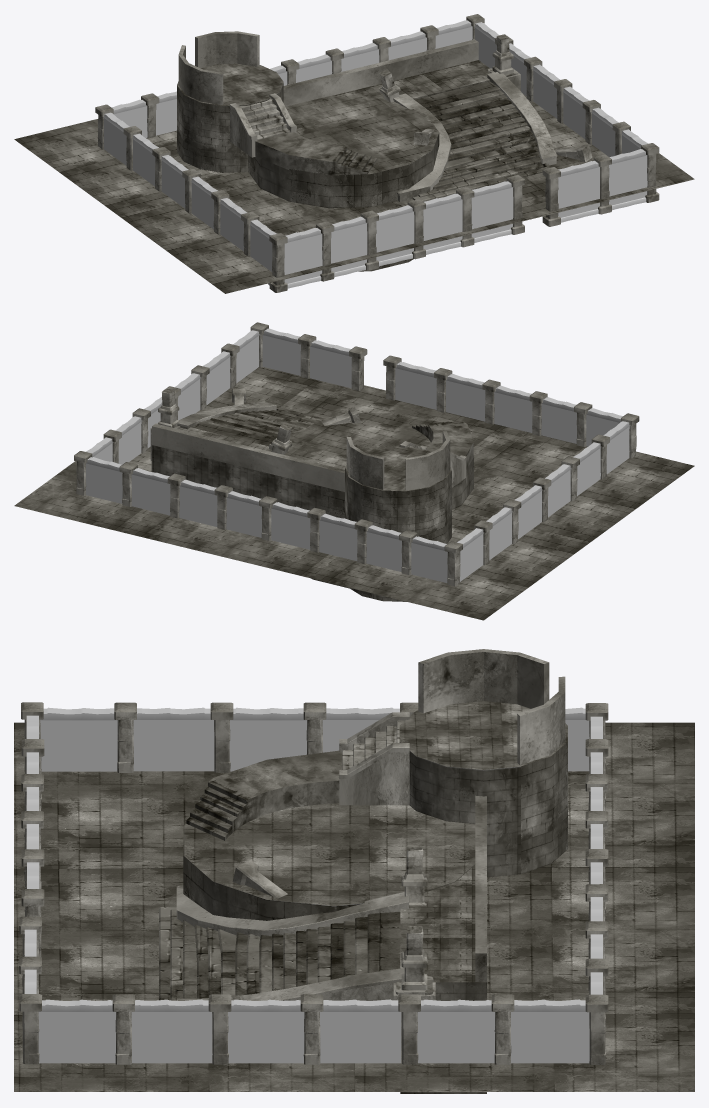
The model's file is Level_Design3.fbx.
3 renders of one model, top to bottom at view 1: azimuth 30°, elevation 25°; view 2: azimuth 150°, elevation 25°; view 3: azimuth 270°, elevation 25°, orthographic. The views are drawn at different scales.
Parts seen in each view (by area): view 1: Levels2_pPlane1, Levels2_Cylinder_plat1, Levels2_Stair3, Levels2_Cylinder_plat2, Levels2_Side_Wall, Levels2_CylinderWall, Levels2_Stair2, Levels2_pCube1, Levels2_Wall1, Levels2_Wall27, Levels2_Wall26, Levels2_Wall2 (+36 smaller); view 2: Levels2_pPlane1, Levels2_Cylinder_plat2, Levels2_Cylinder_plat1, Levels2_pCube1, Levels2_Side_Wall, Levels2_CylinderWall, Levels2_Stair3, Levels2_Wall1, Levels2_Wall27, Levels2_Wall26, Levels2_Wall13, Levels2_Wall28 (+39 smaller); view 3: Levels2_pPlane1, Levels2_Cylinder_plat1, Levels2_Cylinder_plat2, Levels2_Stair3, Levels2_CylinderWall, Levels2_Stair2, Levels2_pCube1, Levels2_Wall6, Levels2_Wall4, Levels2_Wall21, Levels2_Wall8, Levels2_Wall3 (+26 smaller).
Boxes of the visible parts, <box> form: Levels2_pPlane1: <box>14,94,694,293</box>; Levels2_Cylinder_plat1: <box>248,95,439,271</box>; Levels2_Stair3: <box>412,81,549,201</box>; Levels2_Cylinder_plat2: <box>177,63,283,172</box>; Levels2_Side_Wall: <box>283,39,478,106</box>; Levels2_CylinderWall: <box>178,31,259,105</box>; Levels2_Stair2: <box>255,132,377,175</box>; Levels2_pCube1: <box>332,60,490,99</box>; Levels2_Wall1: <box>558,160,599,222</box>; Levels2_Wall27: <box>471,181,513,242</box>; Levels2_Wall26: <box>423,193,462,254</box>; Levels2_Wall2: <box>609,149,647,210</box>; Levels2_pPlane1: <box>14,367,694,620</box>; Levels2_Cylinder_plat2: <box>345,446,451,601</box>; Levels2_Cylinder_plat1: <box>284,412,473,588</box>; Levels2_pCube1: <box>151,427,320,510</box>; Levels2_Side_Wall: <box>152,423,344,491</box>; Levels2_CylinderWall: <box>346,430,450,490</box>; Levels2_Stair3: <box>192,407,325,446</box>; Levels2_Wall1: <box>310,340,351,388</box>; Levels2_Wall27: <box>395,362,436,409</box>; Levels2_Wall26: <box>446,374,485,421</box>; Levels2_Wall13: <box>271,502,310,549</box>; Levels2_Wall28: <box>131,468,170,515</box>; Levels2_pPlane1: <box>14,722,694,1091</box>; Levels2_Cylinder_plat1: <box>183,803,475,920</box>; Levels2_Cylinder_plat2: <box>399,701,567,877</box>; Levels2_Stair3: <box>159,907,400,1000</box>; Levels2_CylinderWall: <box>418,649,565,765</box>; Levels2_Stair2: <box>186,750,342,840</box>; Levels2_pCube1: <box>400,865,486,1093</box>; Levels2_Wall6: <box>320,999,401,1063</box>; Levels2_Wall4: <box>131,999,212,1063</box>; Levels2_Wall21: <box>133,707,214,771</box>; Levels2_Wall8: <box>511,999,589,1063</box>; Levels2_Wall3: <box>38,999,115,1063</box>.
Size of the model in its own units: 73.77 by 24.26 by 57.48.
